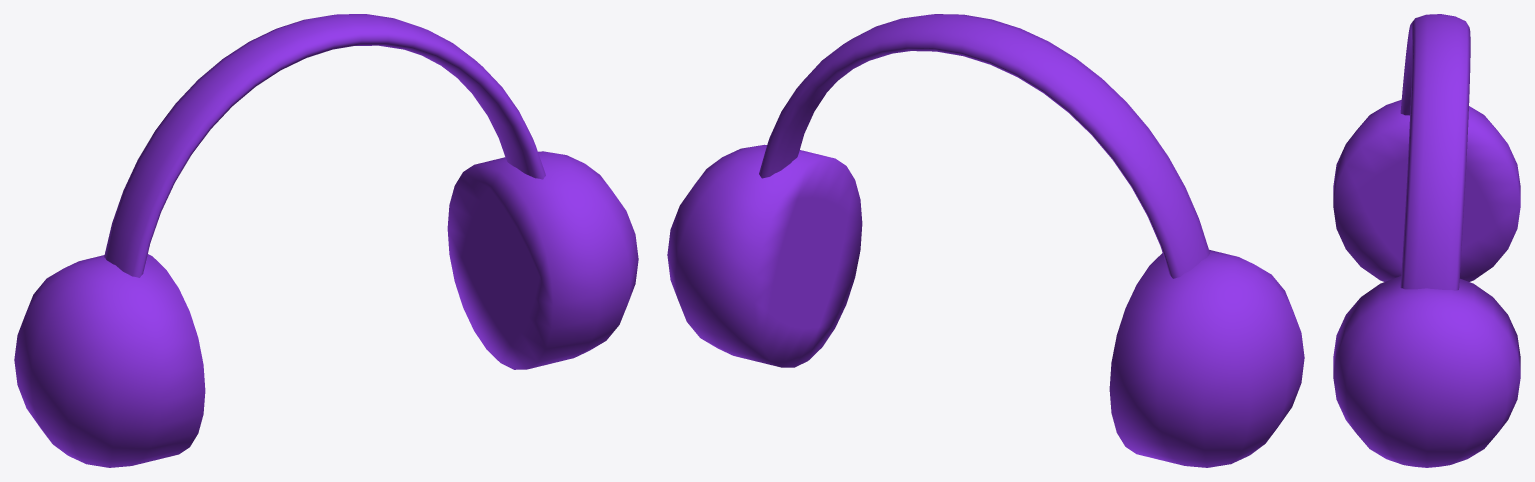
File: Headphones.glb
3 views of the same model, side by side, from view 1: azimuth 30°, elevation 25°; view 2: azimuth 150°, elevation 25°; view 3: azimuth 270°, elevation 25° (orthographic). The views are drawn at different scales.
Parts seen in each view (by area): view 1: Headphones; view 2: Headphones; view 3: Headphones.
Part boxes in pixels (x1=…): Headphones: x1=14, y1=14, x2=638, y2=467; Headphones: x1=667, y1=14, x2=1304, y2=467; Headphones: x1=1333, y1=14, x2=1520, y2=467.
Bounding box in the file's own units: 0.7869 × 0.4792 × 0.2438.
